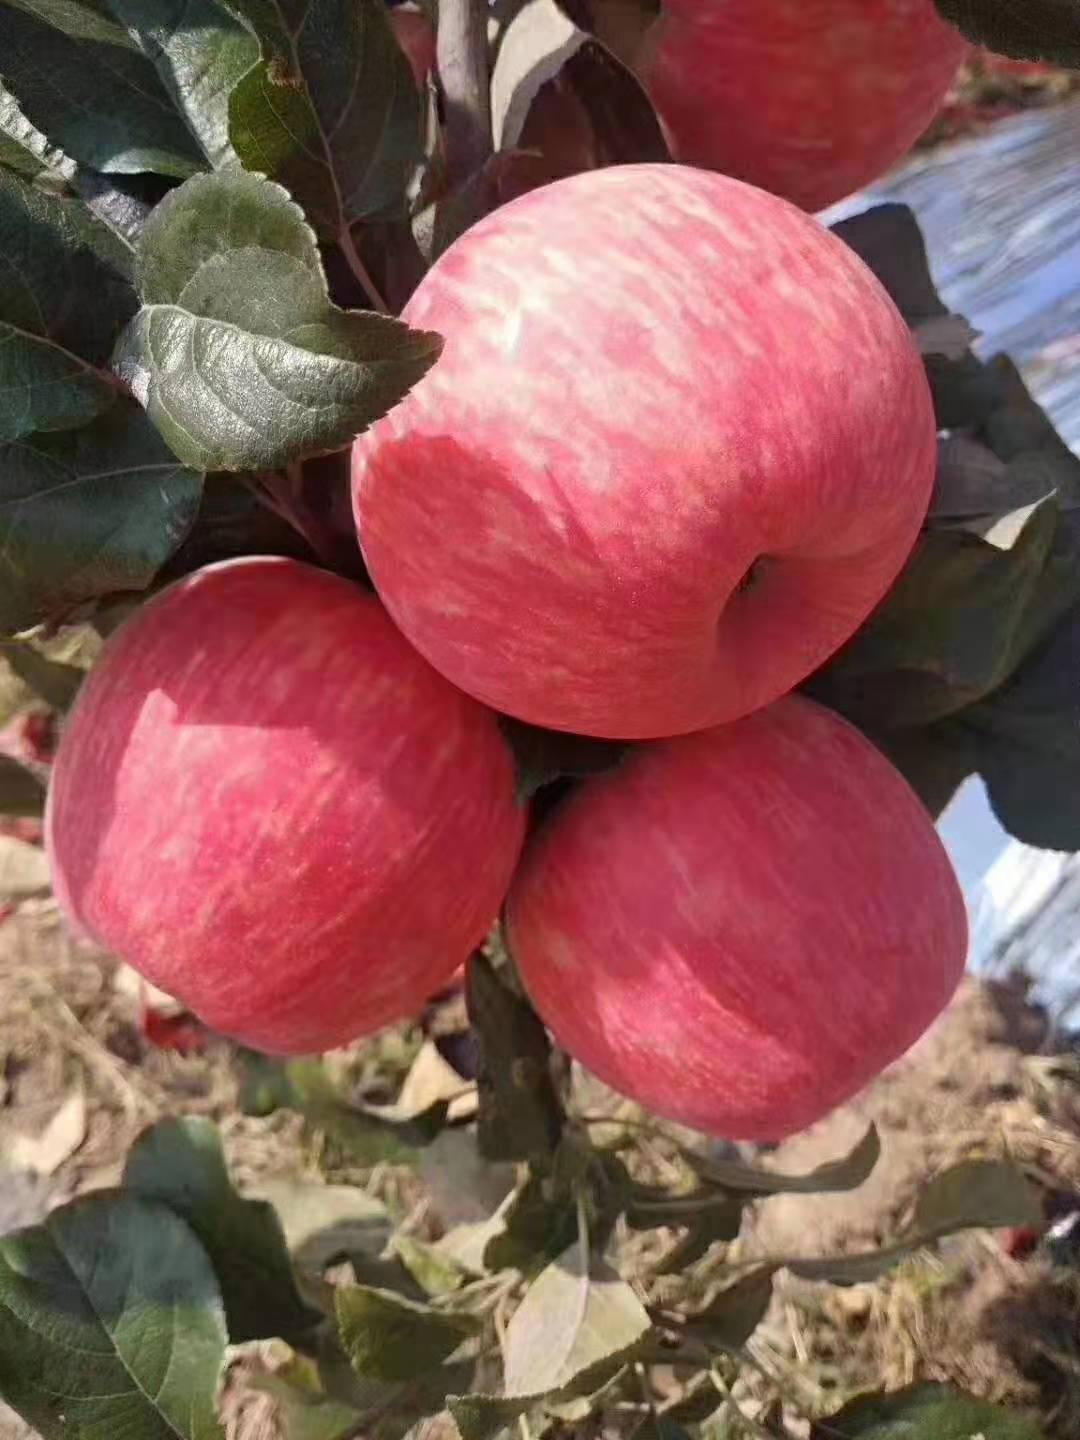apple: (348, 162, 940, 749), (53, 553, 532, 1051), (507, 703, 970, 1146), (592, 1, 964, 215)
